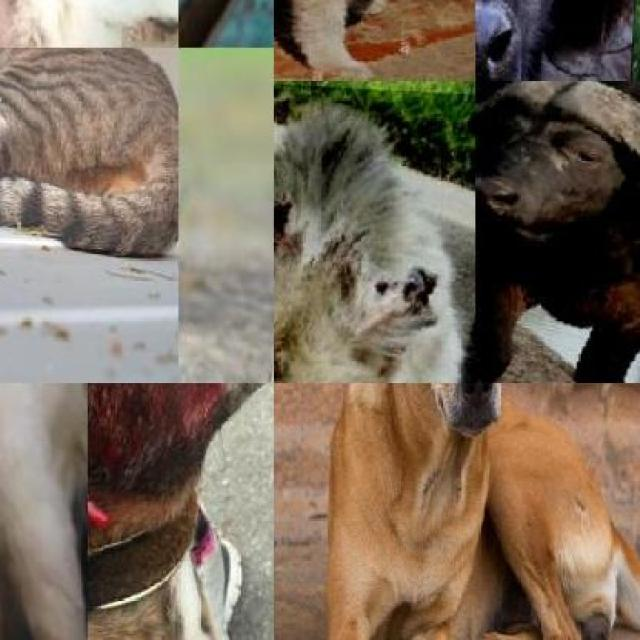buffalo: (475, 80, 640, 383), (475, 0, 640, 80)
cat: (274, 80, 475, 383), (0, 48, 178, 257), (0, 383, 88, 640), (274, 0, 475, 80)
dog: (341, 383, 640, 640), (88, 383, 274, 640)
injured: (88, 383, 214, 615)
